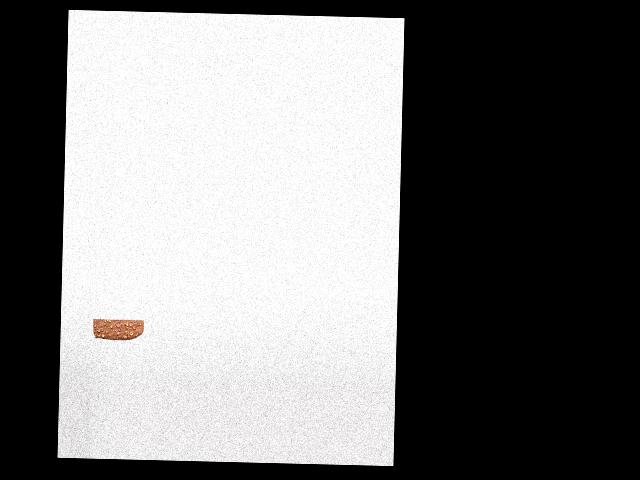chocolate: (92, 316, 144, 344)
